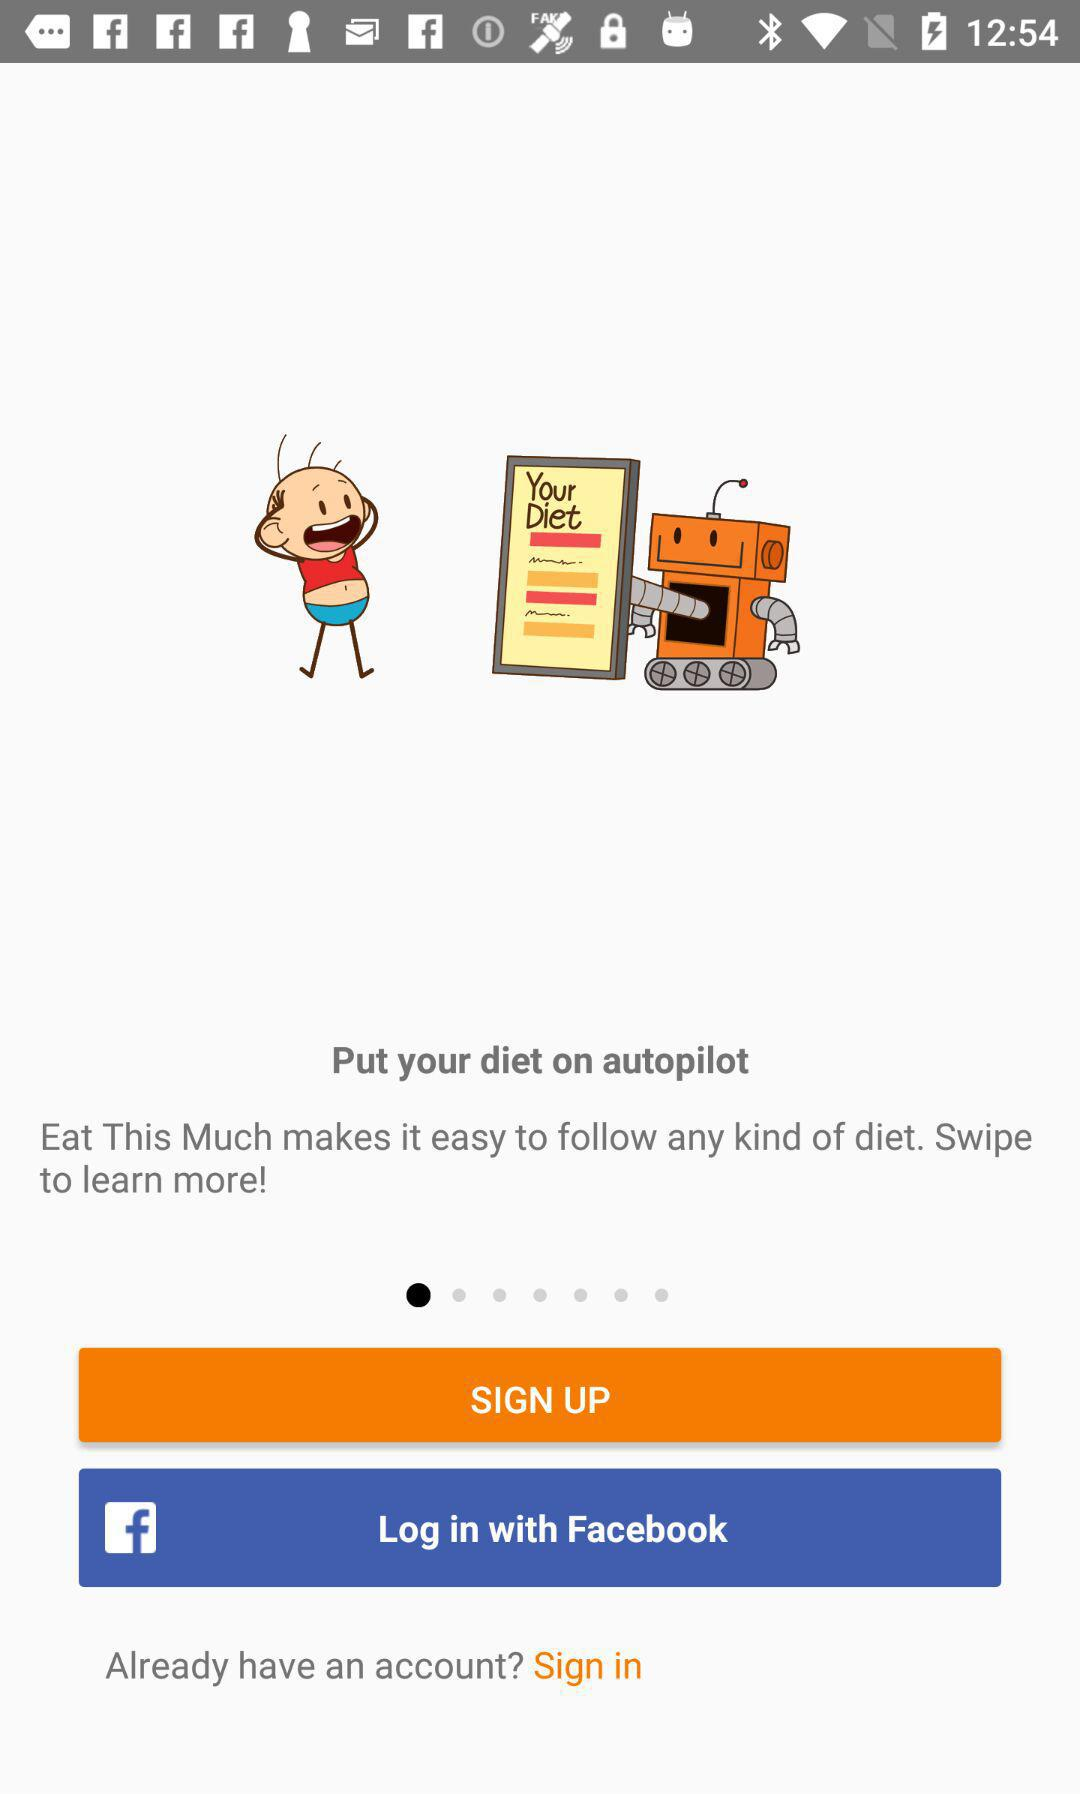Image: (252, 433, 802, 693)
PageIndicator: (405, 1281, 671, 1310)
Text: (40, 1121, 1033, 1196), (106, 1650, 642, 1686), (333, 1044, 749, 1083)
TextButton: (79, 1469, 1002, 1588), (79, 1347, 1002, 1443)
UpperTaskBar: (1, 1, 1080, 64)
